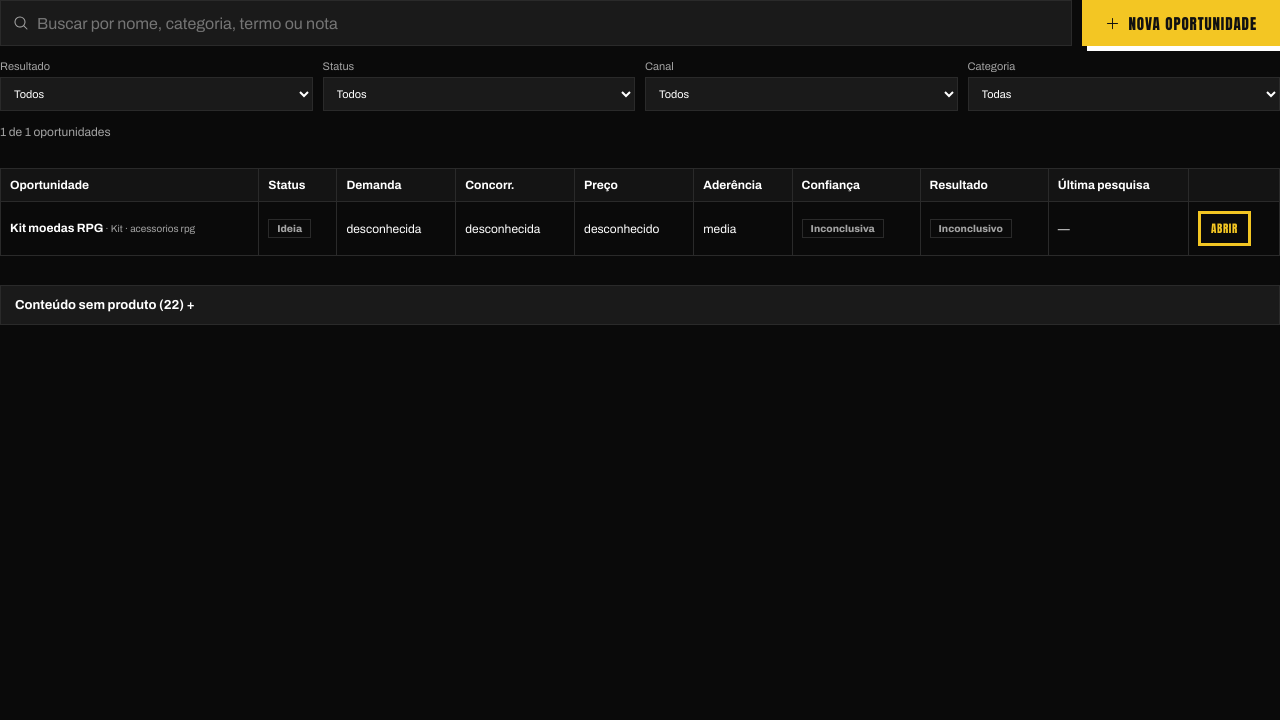
Test: RadarManager — importação do Mercado Livre › erro do provider é explicado sem quebrar o Radar
Click the button "Abrir".
click(1224, 228)  # box [1198,211,1251,246]
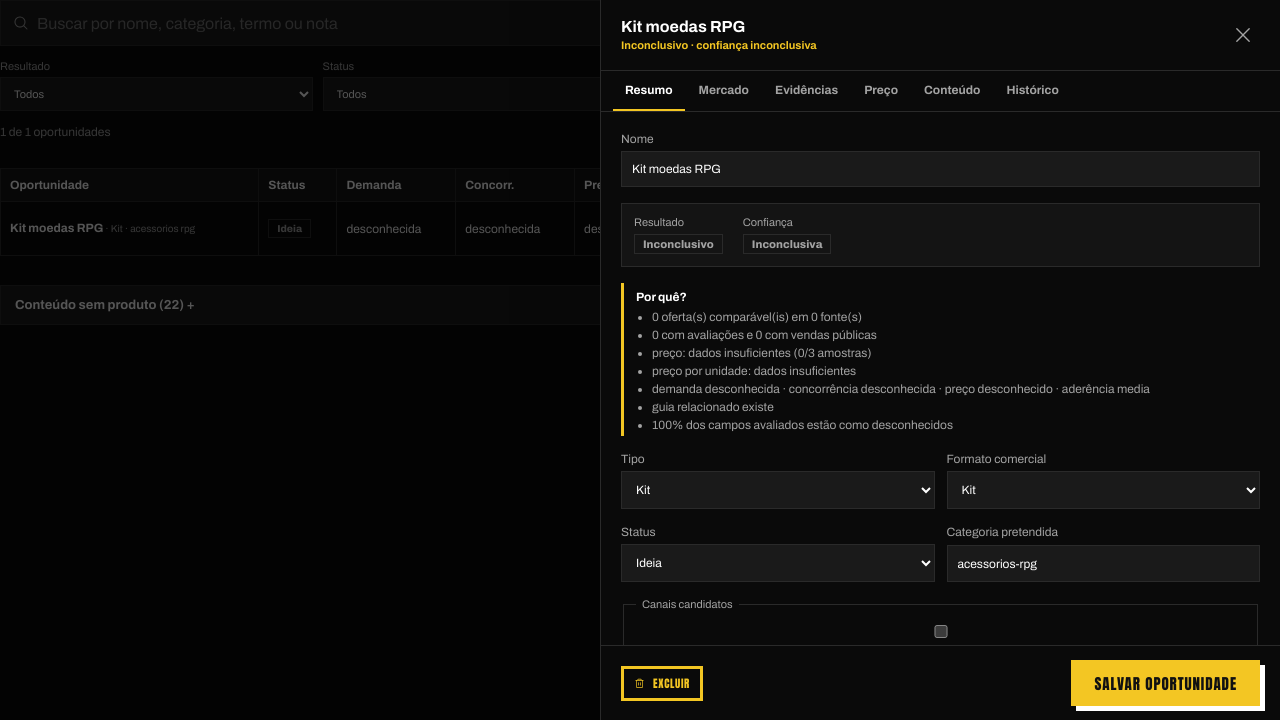
Click the button "Evidências".
click(807, 91)  # box [763,71,850,111]
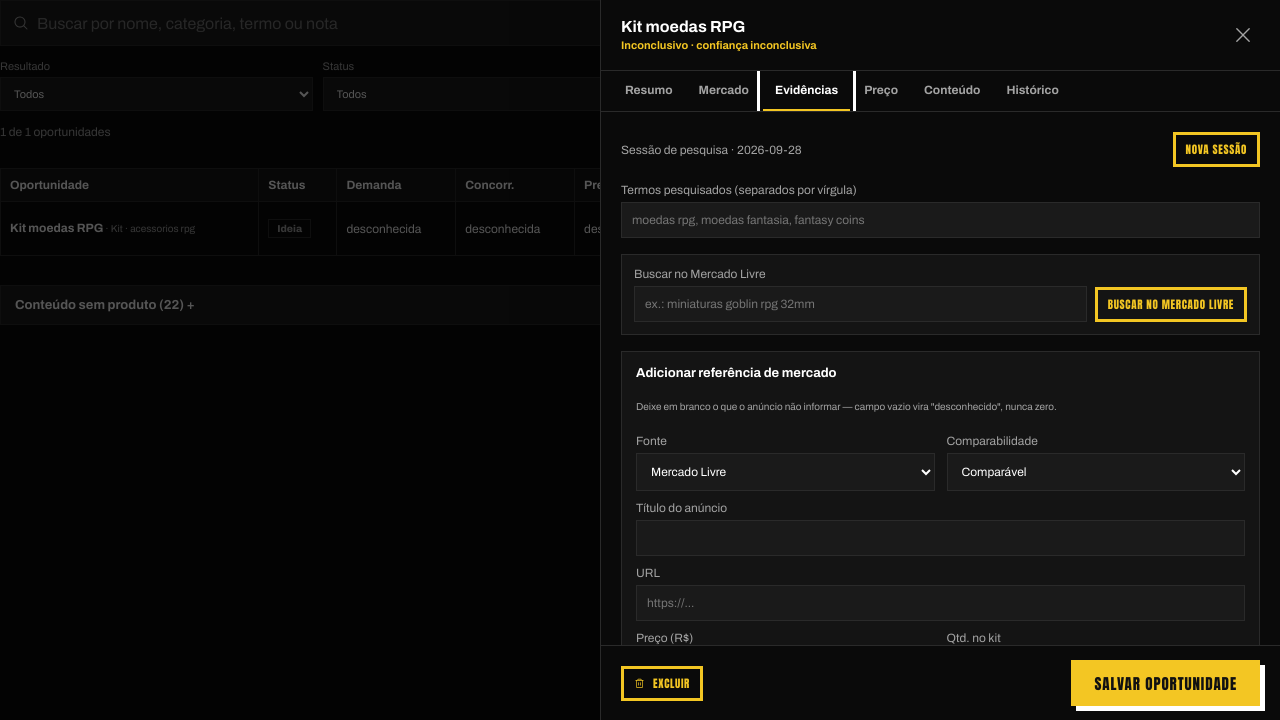
Type "goblin" into the field labelled "Buscar no Mercado Livre".
click(860, 304); type("goblin")  # box [634,286,1087,322]
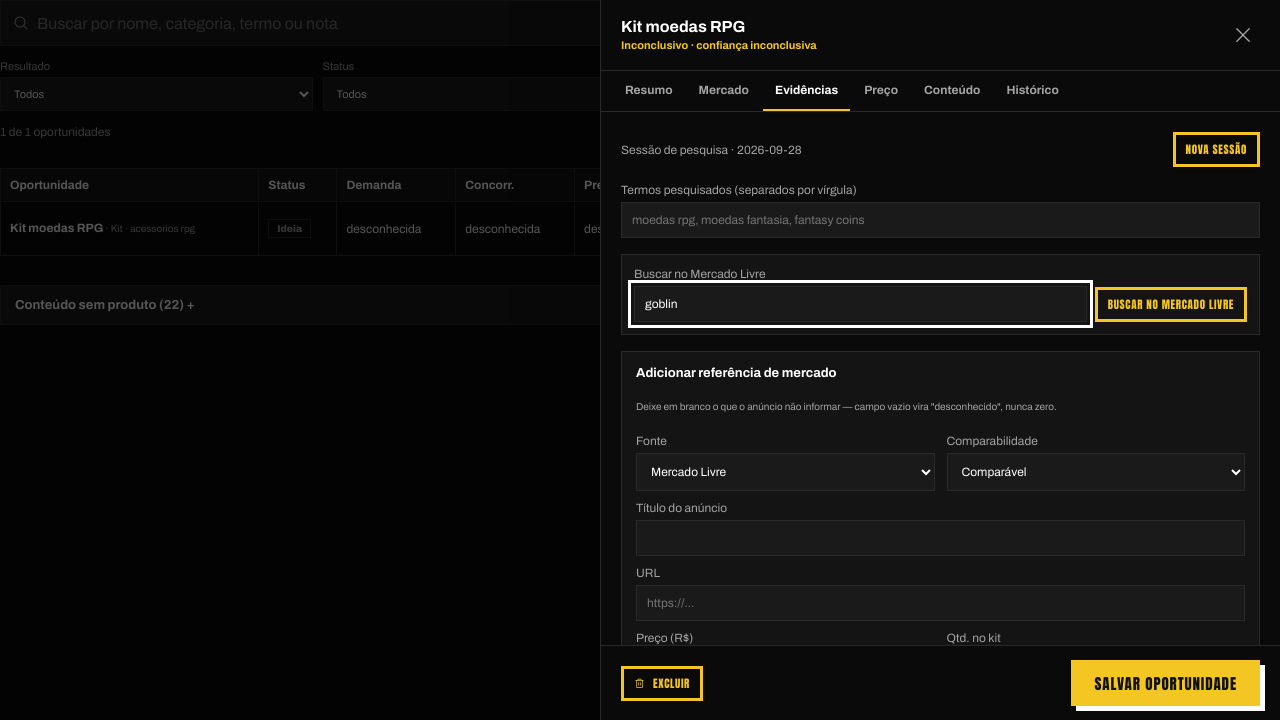
Click the button "Buscar no Mercado Livre".
click(1171, 304)  # box [1095,287,1247,322]
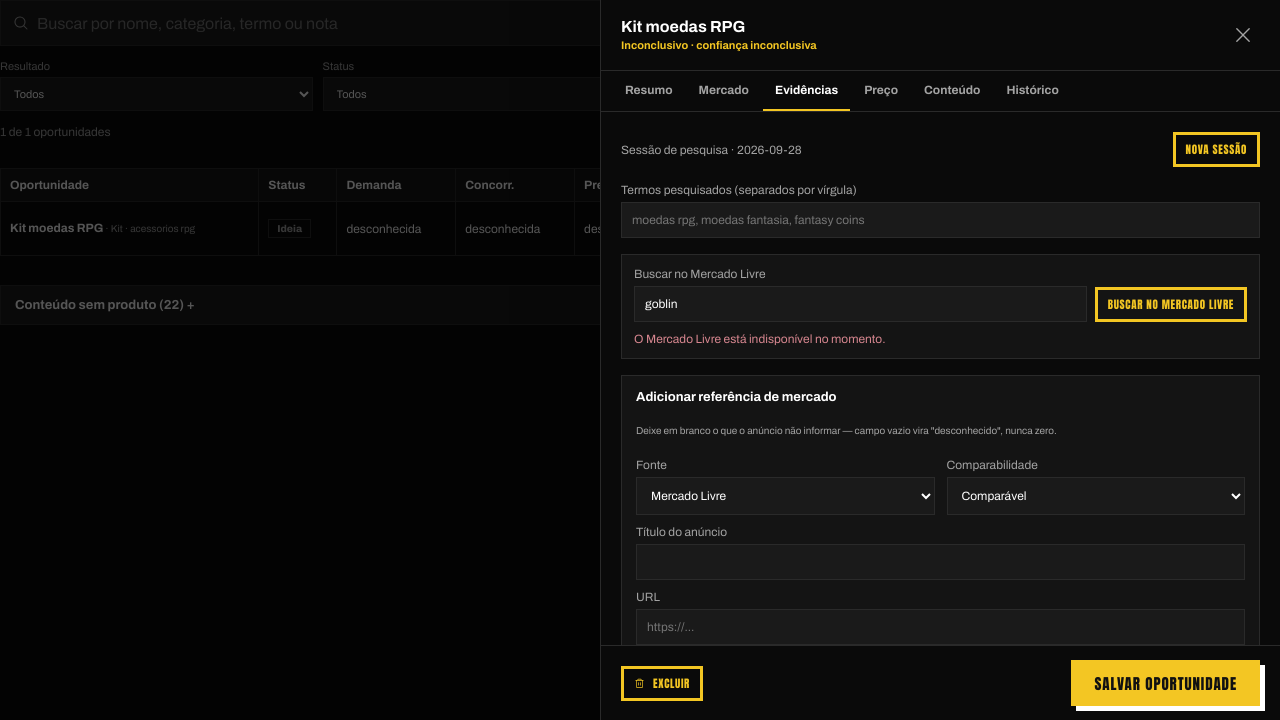
Expected: the message shows "indisponível", [634,332,886,346]
